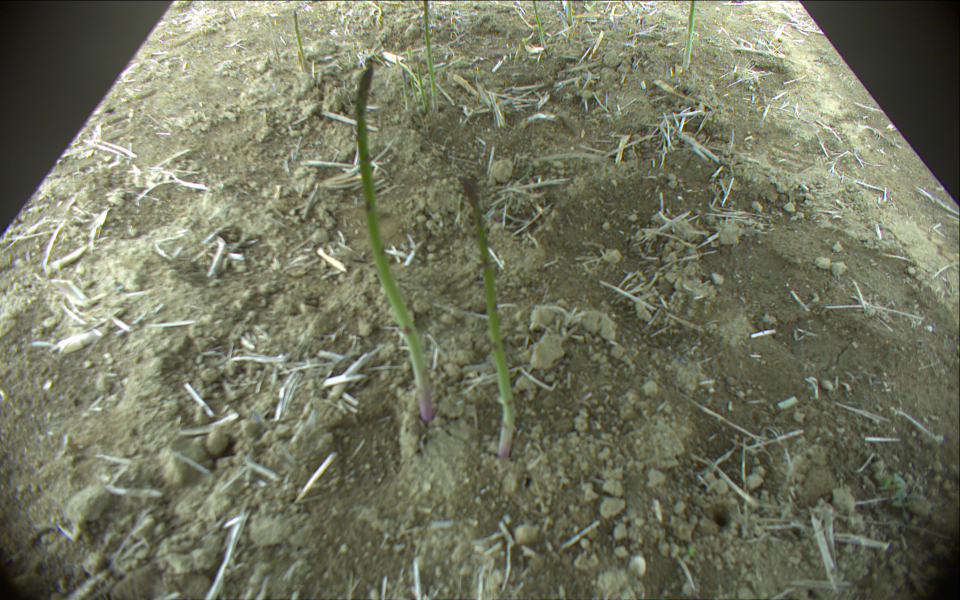aspa: (351, 58, 435, 421), (458, 175, 518, 458), (420, 1, 441, 115), (681, 1, 699, 71), (291, 9, 309, 69), (406, 45, 418, 105), (415, 56, 428, 109), (532, 1, 546, 50), (401, 65, 410, 109), (563, 1, 574, 27)
